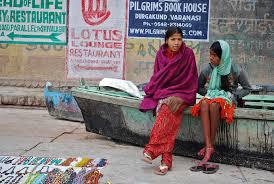Person: (138, 27, 198, 176), (190, 40, 253, 164)
